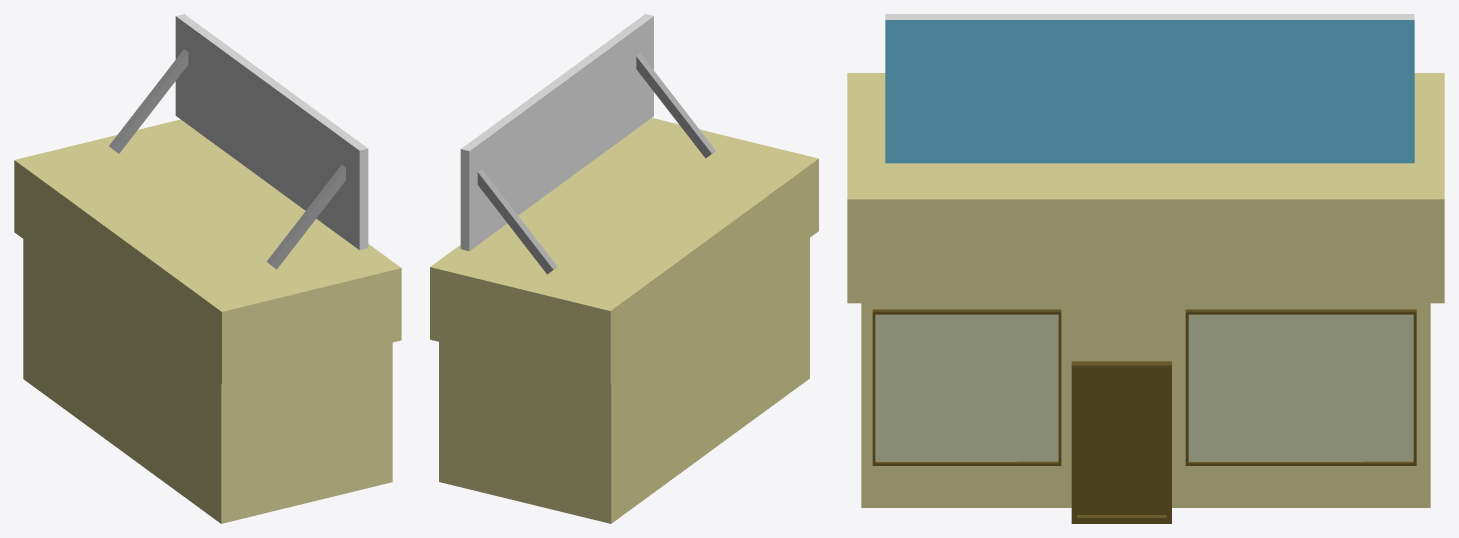
File: shop1.fbx
3 renders of one model, left to right at view 1: azimuth 30°, elevation 25°; view 2: azimuth 150°, elevation 25°; view 3: azimuth 270°, elevation 25°, orthographic. The views are drawn at different scales.
Visible parts, largest first — view 1: shop1; view 2: shop1; view 3: shop1.
Boxes of the visible parts, x1,y1,x2,y2 form: shop1: (14, 14, 401, 523); shop1: (430, 14, 818, 523); shop1: (847, 14, 1444, 523).
Size of the model in its own units: 2.02 by 3.61 by 4.
